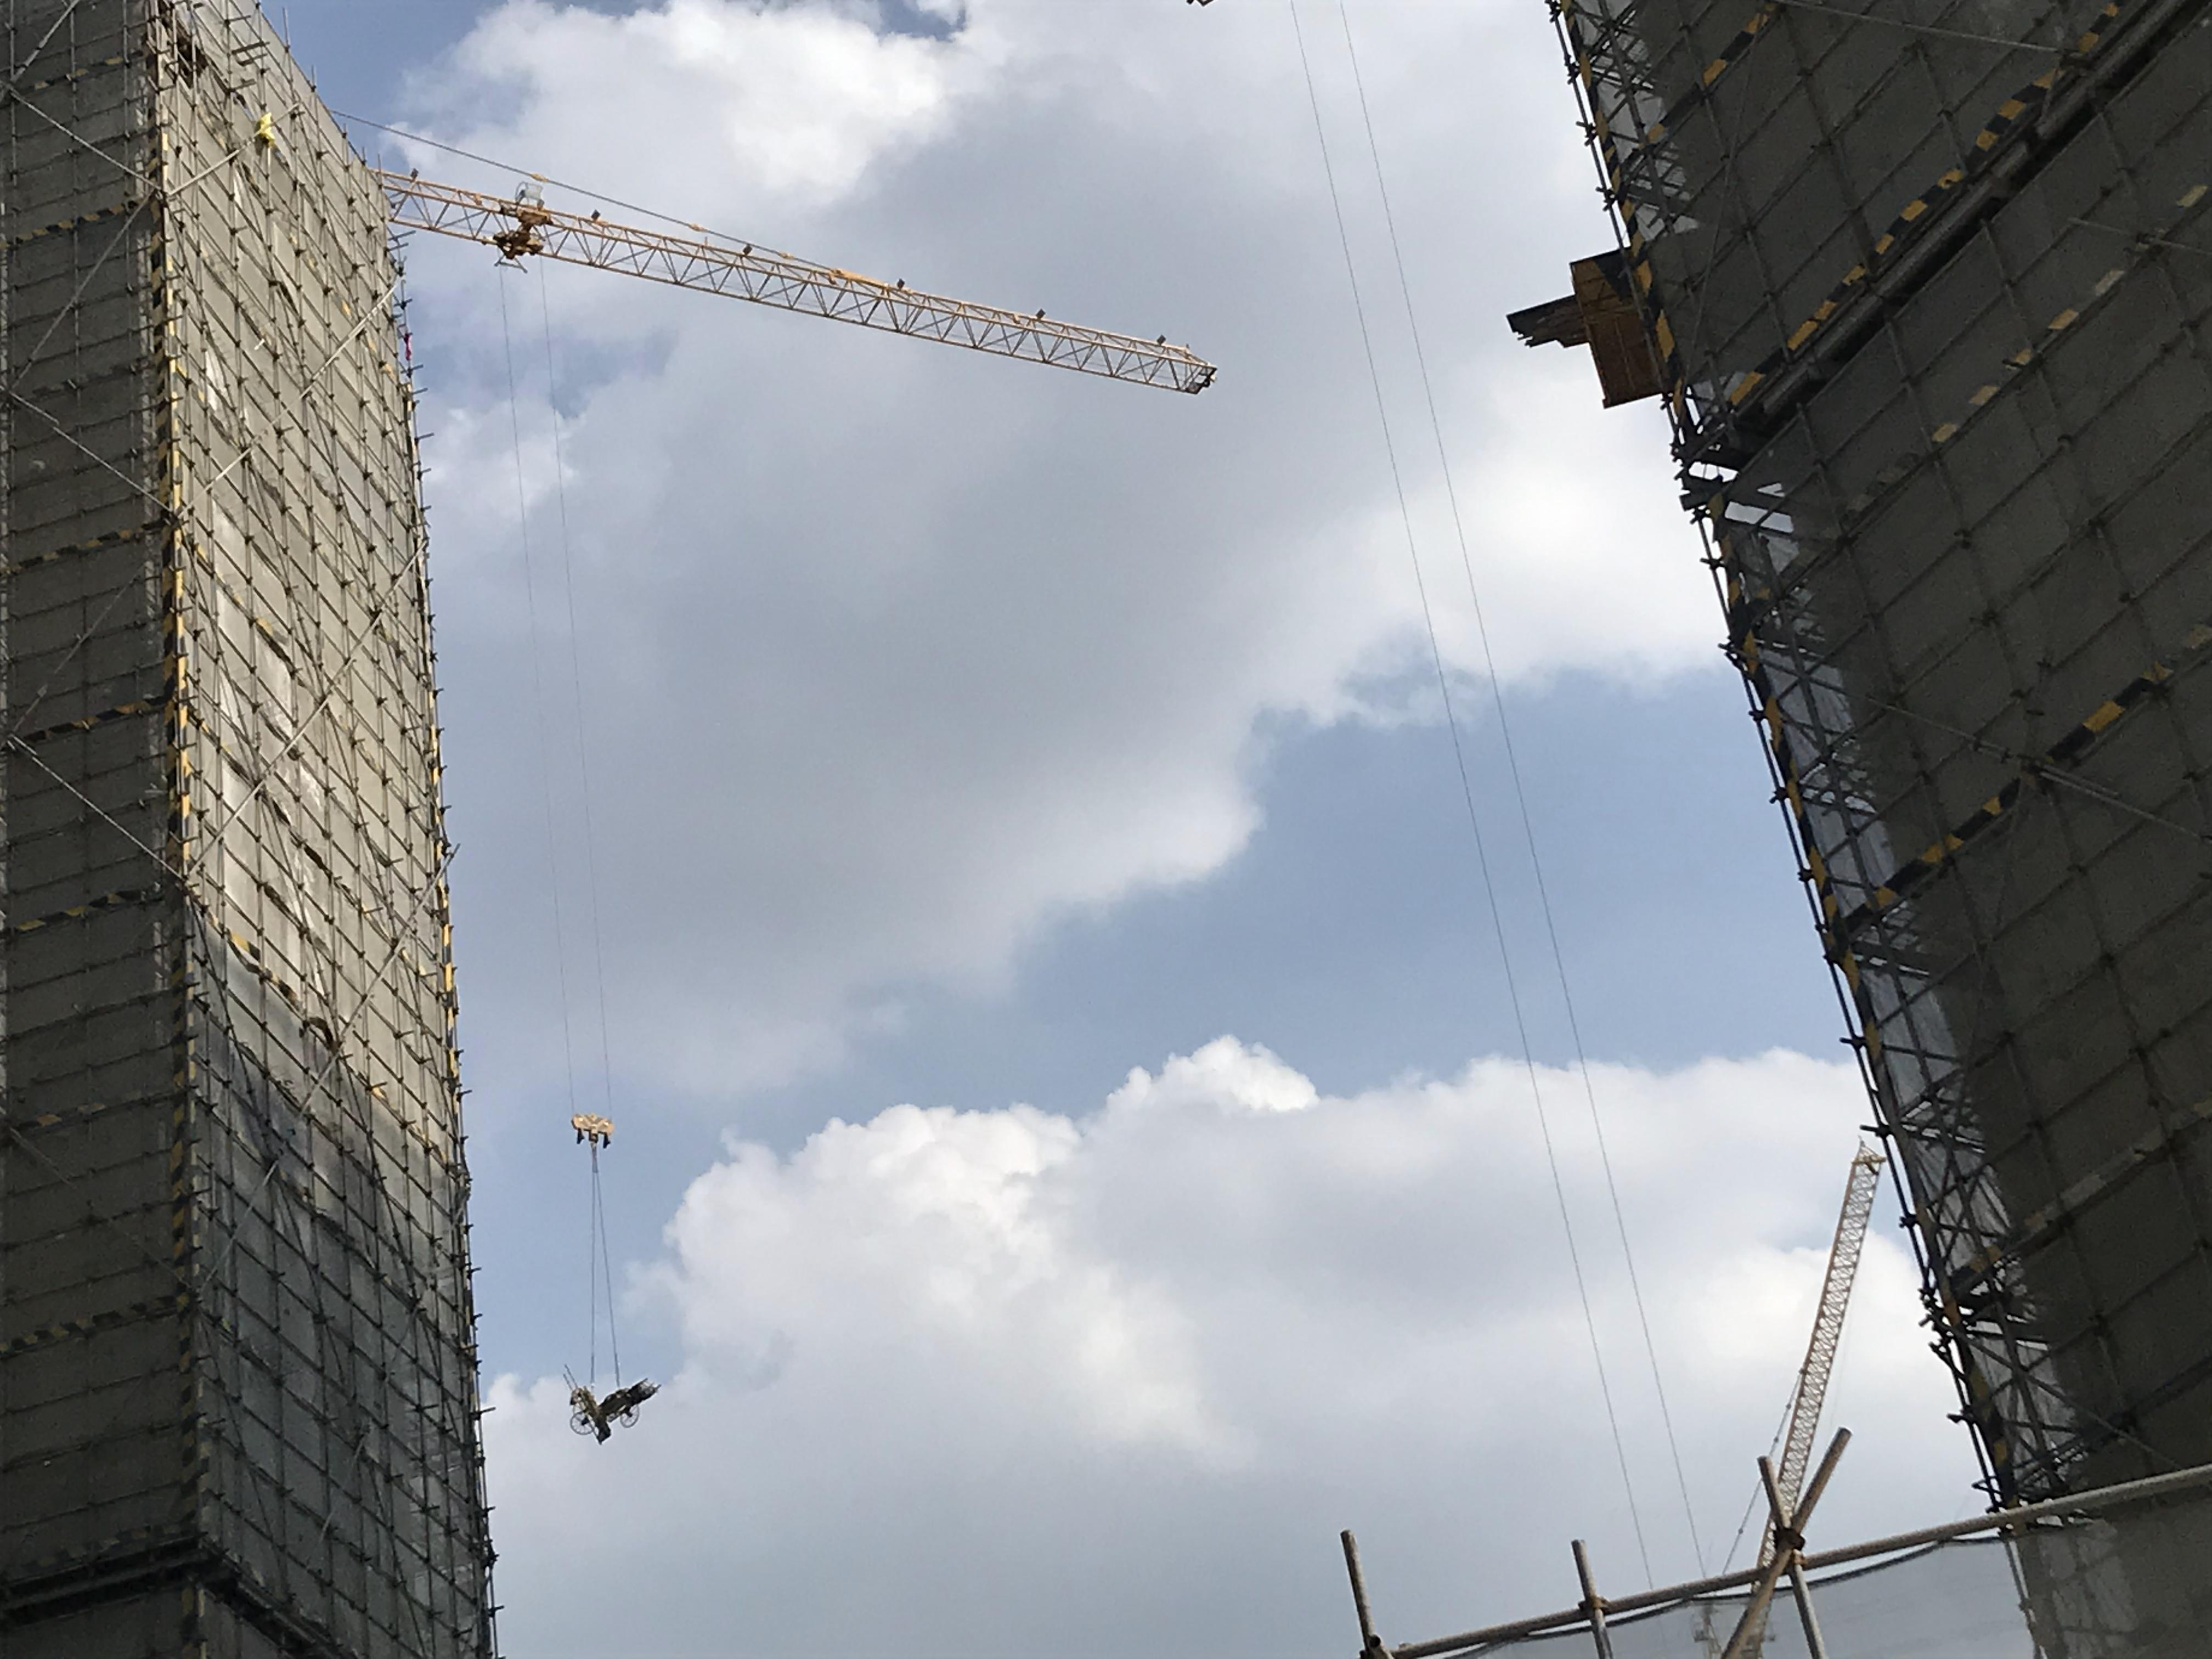hook: (571, 1114, 613, 1161)
